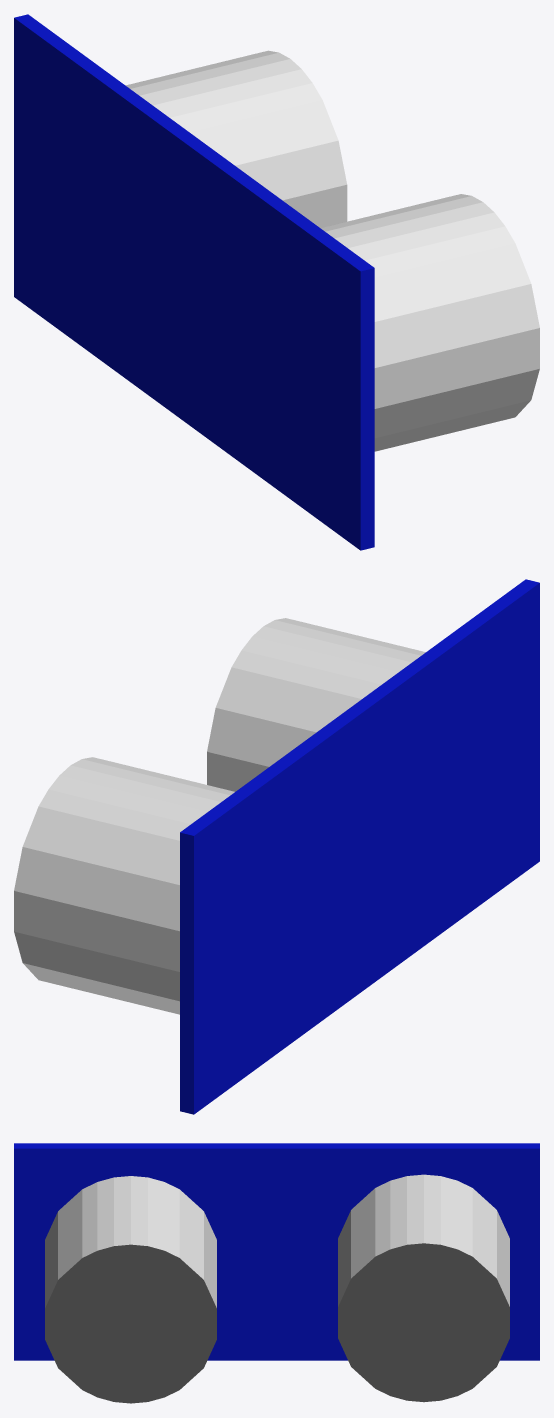
Rendered from ultrasoon.dae.
The picture shows the model from 3 angles, top to bottom: view 1: azimuth 30°, elevation 25°; view 2: azimuth 150°, elevation 25°; view 3: azimuth 270°, elevation 25°; orthographic projection. The views are drawn at different scales.
Parts seen in each view (by area): view 1: Cube; view 2: Cube; view 3: Cube.
Part boxes in pixels (x1,y1,x2,y2): Cube: (14, 14, 539, 550); Cube: (14, 579, 539, 1114); Cube: (14, 1143, 539, 1403).
Size of the model in its own units: 0.015 by 0.045 by 0.02.
